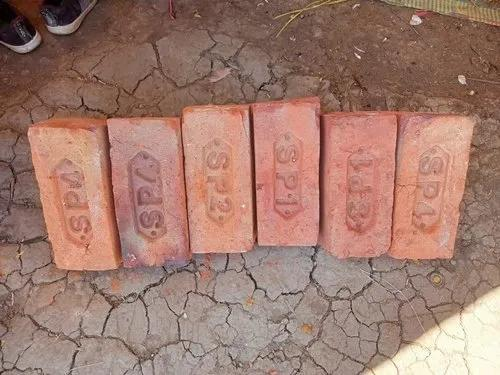brick: (29, 124, 112, 269), (108, 117, 186, 270), (394, 113, 472, 262), (183, 108, 251, 255), (328, 114, 395, 257), (256, 103, 317, 249)
